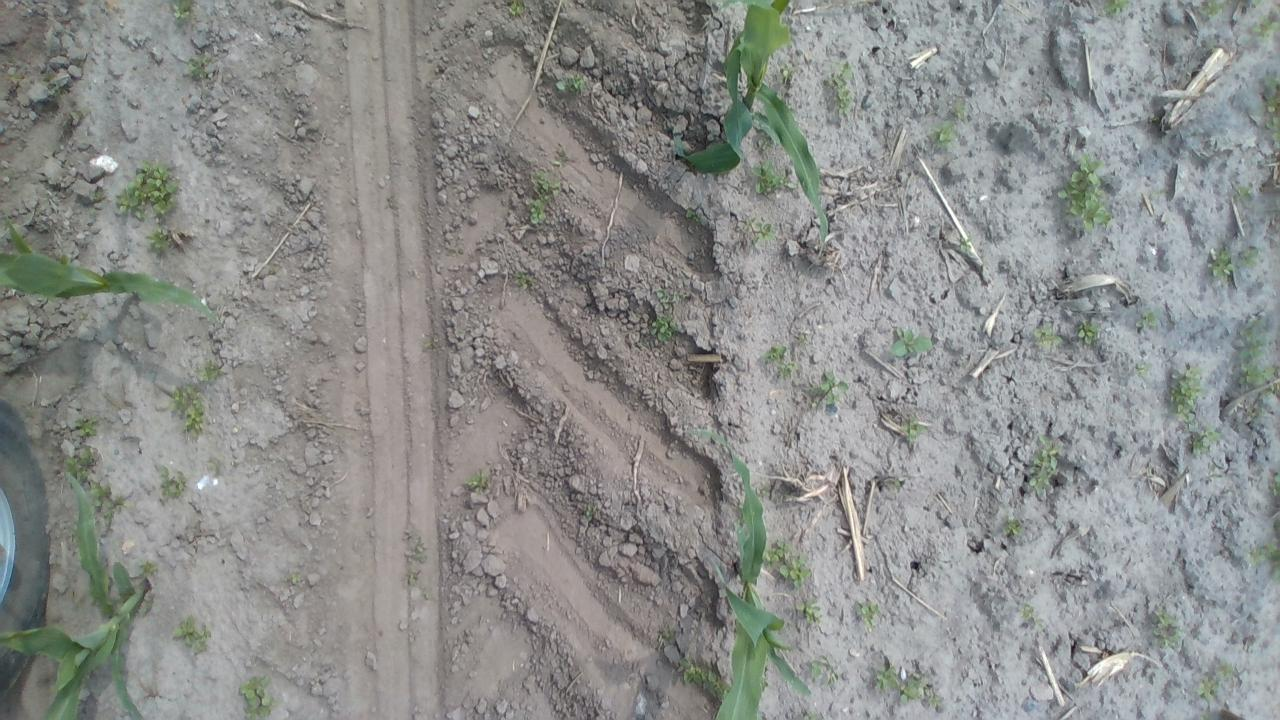Maize: (674, 0, 832, 258), (0, 473, 158, 720), (699, 431, 818, 720), (0, 216, 222, 330)
Weeds: (1055, 153, 1115, 236), (112, 158, 181, 222), (528, 149, 568, 225), (678, 651, 732, 704), (765, 536, 812, 589), (1167, 362, 1204, 421), (1247, 518, 1280, 581), (1028, 436, 1062, 496), (88, 481, 133, 524), (897, 674, 942, 712), (174, 384, 206, 437), (1240, 360, 1280, 402), (240, 674, 278, 718), (752, 158, 798, 194), (172, 616, 212, 656), (1236, 316, 1267, 366), (888, 325, 934, 357), (828, 60, 854, 116), (810, 369, 850, 405), (1260, 74, 1280, 142), (1150, 607, 1183, 648), (64, 447, 98, 482), (1208, 246, 1237, 283), (1189, 424, 1221, 457), (158, 467, 186, 501), (1252, 9, 1280, 43), (898, 412, 928, 442), (70, 413, 104, 439), (144, 226, 174, 255), (554, 70, 590, 94), (810, 658, 840, 686), (1032, 321, 1062, 349), (856, 600, 882, 632), (746, 220, 778, 244), (406, 526, 426, 564), (1018, 604, 1044, 633), (930, 122, 959, 148), (796, 599, 821, 628), (652, 315, 678, 342), (188, 55, 214, 80), (874, 664, 898, 691), (1197, 0, 1226, 22), (760, 342, 787, 364), (654, 288, 685, 307), (1100, 0, 1132, 18), (1136, 307, 1160, 330), (169, 1, 197, 20), (756, 128, 778, 152), (1077, 320, 1099, 344), (200, 360, 222, 382), (1238, 247, 1260, 269), (1198, 675, 1217, 699), (878, 472, 902, 490), (956, 234, 976, 255), (138, 559, 160, 578), (778, 60, 794, 86), (1218, 661, 1236, 684), (514, 270, 534, 290), (658, 626, 677, 647), (1232, 182, 1254, 200), (1002, 518, 1024, 536), (466, 472, 486, 491), (506, 0, 526, 18), (780, 359, 800, 377), (405, 568, 422, 589), (44, 78, 62, 96), (954, 100, 968, 120), (58, 251, 74, 268), (8, 66, 24, 82), (1246, 403, 1260, 421), (74, 104, 91, 118), (1134, 362, 1151, 376), (92, 190, 105, 208), (1272, 471, 1280, 499), (582, 504, 596, 520), (685, 207, 699, 222), (800, 710, 821, 720), (794, 332, 808, 346), (206, 459, 220, 473), (286, 572, 300, 585), (759, 484, 774, 496), (424, 337, 440, 347), (759, 678, 769, 693), (386, 197, 396, 208), (268, 266, 278, 276), (1251, 0, 1263, 8), (756, 713, 766, 720)
